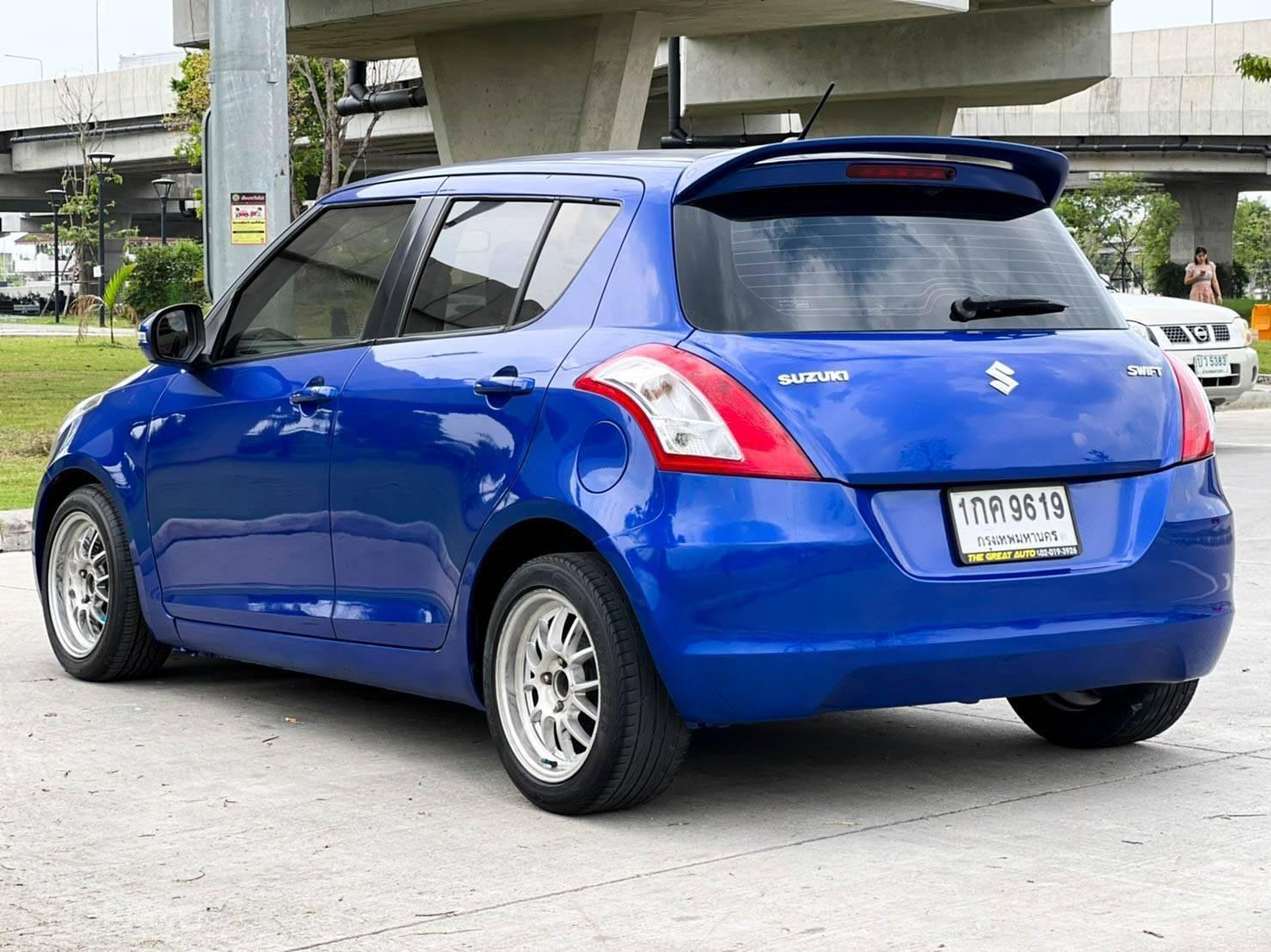license-plate: (938, 480, 1087, 568)
